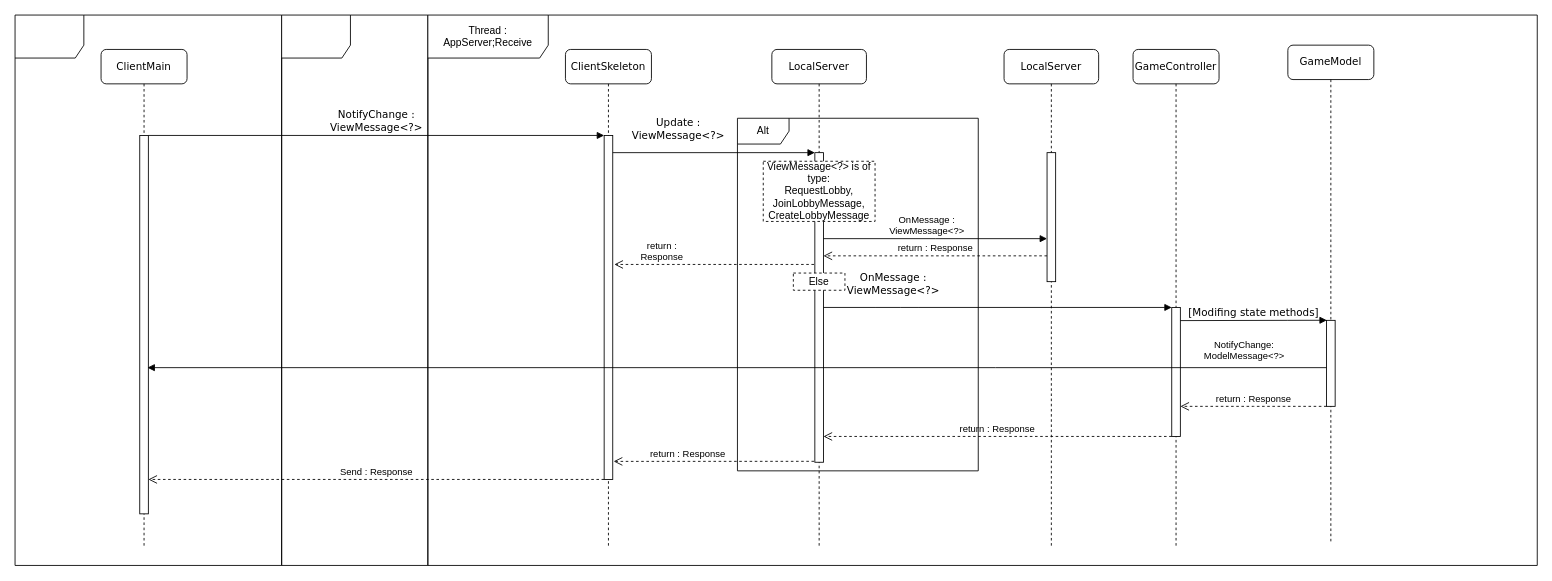
The diagram is 1552 pixels wide and 581 high, and some of its shapes have lost their labels. The shapes that lost their labels are listed below. From the top down, each one's centre as x and y in pixels, then its label:
At point 148,289: "Thread : ClientMain".
At point 354,289: "NETWORK".
